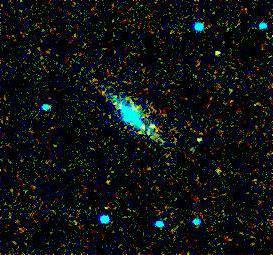star: (141, 114, 171, 144)
